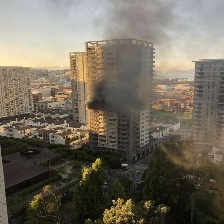smoke: (82, 2, 184, 116)
